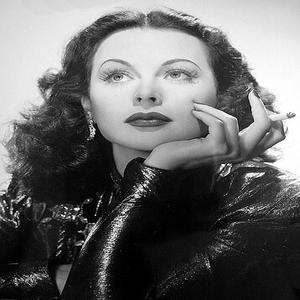cigarette: (264, 108, 299, 128)
